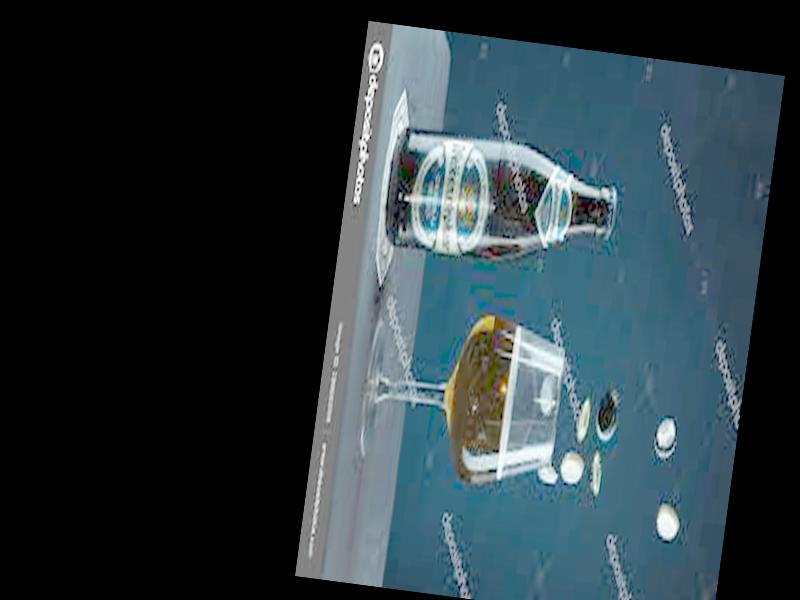Beer: (383, 129, 619, 271)
